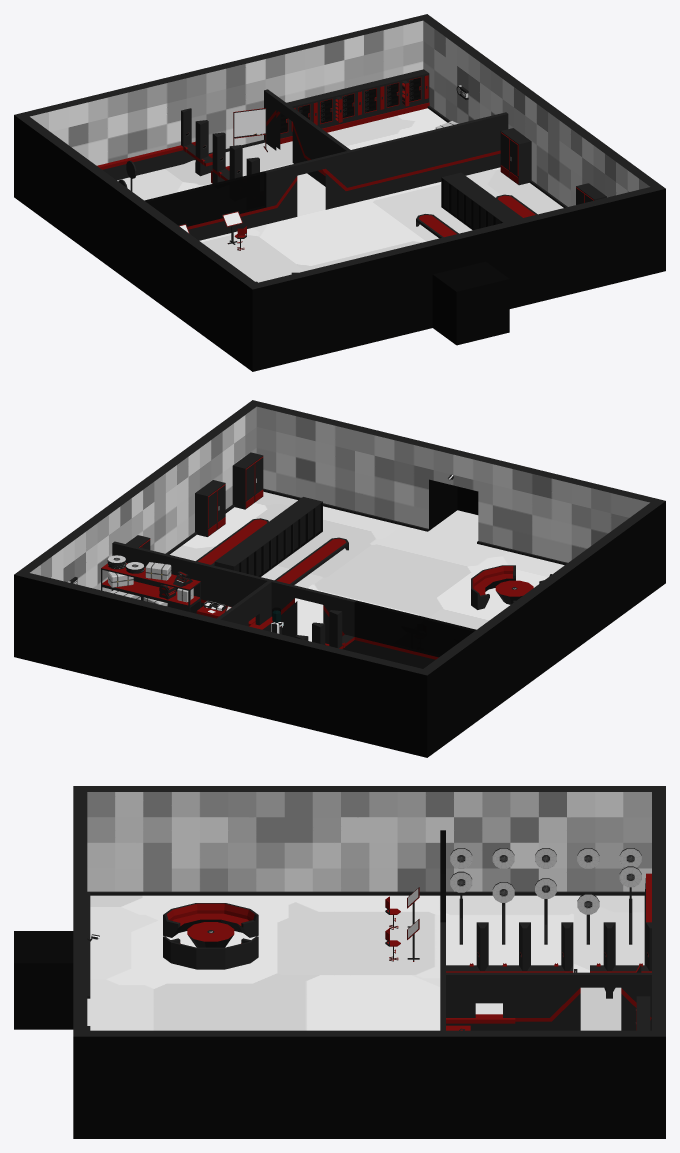
Rendered from Armory_Room.fbx.
The picture shows the model from 3 angles, top to bottom: view 1: azimuth 30°, elevation 25°; view 2: azimuth 150°, elevation 25°; view 3: azimuth 270°, elevation 25°; orthographic projection. The views are drawn at different scales.
Parts seen in each view (by area): view 1: Armory_Room_1x1x1; view 2: Armory_Room_1x1x1; view 3: Armory_Room_1x1x1.
Part boxes in pixels (x1,y1,x2,y2): Armory_Room_1x1x1: [14, 14, 665, 371]; Armory_Room_1x1x1: [14, 400, 665, 757]; Armory_Room_1x1x1: [14, 786, 665, 1138].
Bounding box in the file's own units: 42 × 46.2 × 8.
